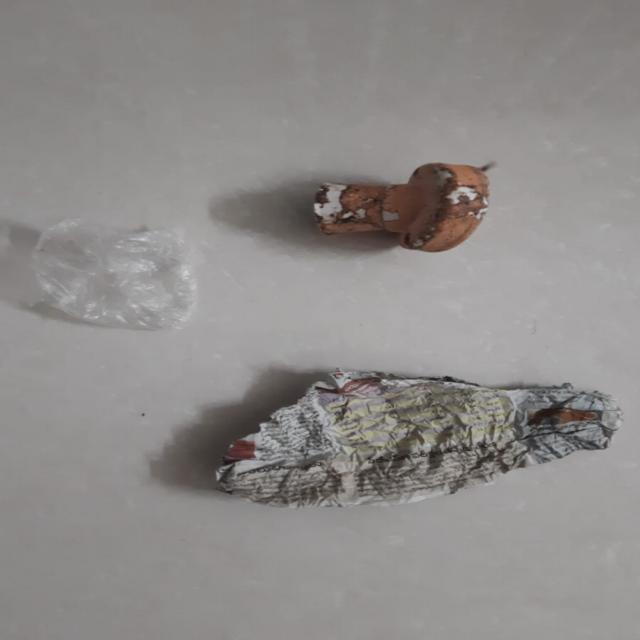paper: (185, 365, 631, 517)
plastic: (8, 186, 221, 345), (257, 161, 519, 262)
